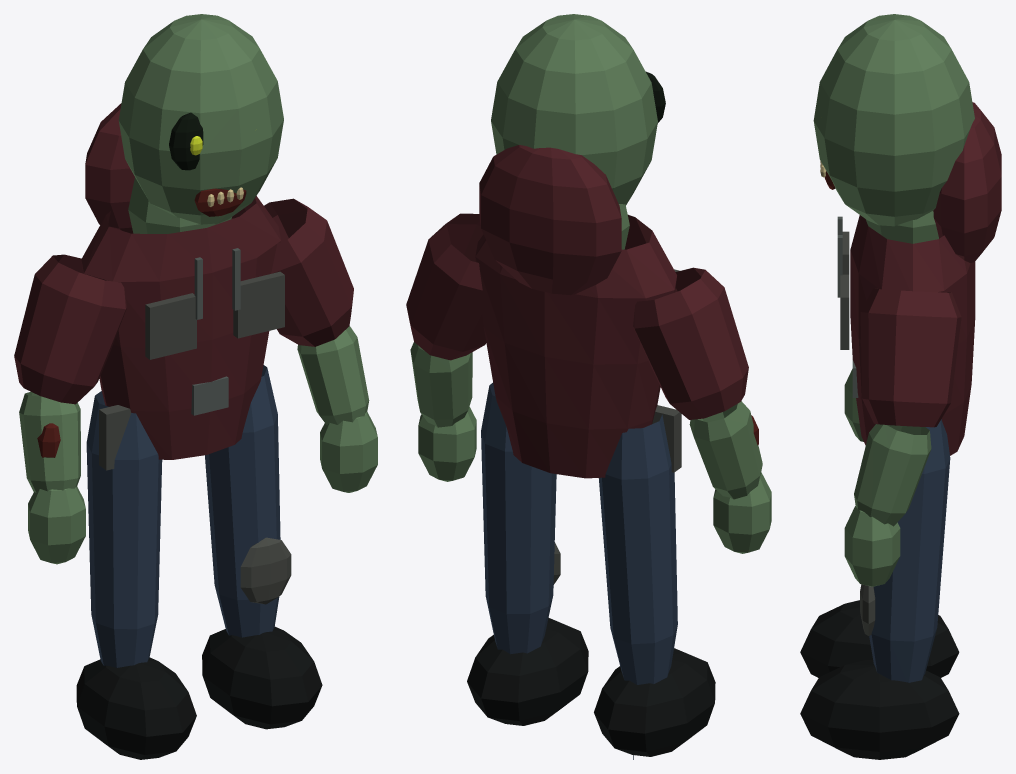
File: Zombie_02_Civilian_Dummy.obj
3 renders of one model, left to right at view 1: azimuth 30°, elevation 25°; view 2: azimuth 150°, elevation 25°; view 3: azimuth 270°, elevation 25°, orthographic.
Visible parts, largest first — view 1: upper_body, head, left_leg, right_leg, left_sleeve, left_boot, right_boot, right_sleeve, right_forearm, left_forearm, hood_back, left_hand (+10 smaller); view 2: upper_body, head, hood_back, left_leg, right_leg, left_sleeve, right_sleeve, left_boot, right_boot, left_forearm, right_forearm, left_hand (+2 smaller); view 3: head, right_sleeve, right_leg, right_boot, upper_body, hood_back, right_forearm, left_boot, right_hand, neck, chest_patch_right, knee_patch (+1 smaller).
Boxes of the visible parts, x1,y1,x2,y2 form: upper_body: (81, 196, 280, 459); head: (118, 14, 283, 224); left_leg: (86, 391, 162, 667); right_leg: (205, 365, 280, 637); left_sleeve: (14, 254, 126, 404); left_boot: (76, 657, 196, 759); right_boot: (202, 626, 322, 729); right_sleeve: (264, 198, 353, 346); right_forearm: (297, 326, 369, 424); left_forearm: (19, 391, 80, 492); hood_back: (85, 103, 134, 233); left_hand: (28, 486, 85, 564); upper_body: (475, 214, 676, 478); head: (491, 14, 657, 205); hood_back: (479, 145, 621, 295); left_leg: (598, 414, 677, 684); right_leg: (481, 382, 556, 654); left_sleeve: (633, 267, 748, 419); right_sleeve: (406, 213, 486, 360); left_boot: (594, 648, 715, 756); right_boot: (467, 618, 588, 725); left_forearm: (689, 401, 762, 499); right_forearm: (410, 342, 472, 427); left_hand: (713, 472, 771, 553); head: (813, 14, 974, 226); right_sleeve: (860, 288, 961, 427); right_leg: (869, 419, 950, 682); right_boot: (800, 660, 959, 759); upper_body: (850, 215, 975, 455); hood_back: (933, 102, 1001, 263); right_forearm: (854, 424, 931, 526); left_boot: (800, 600, 959, 677); right_hand: (844, 505, 900, 586); neck: (865, 211, 938, 243); chest_patch_right: (840, 274, 849, 349); knee_patch: (860, 584, 875, 635).
Size of the model in its own units: 0.991 by 1.94 by 0.4993.
